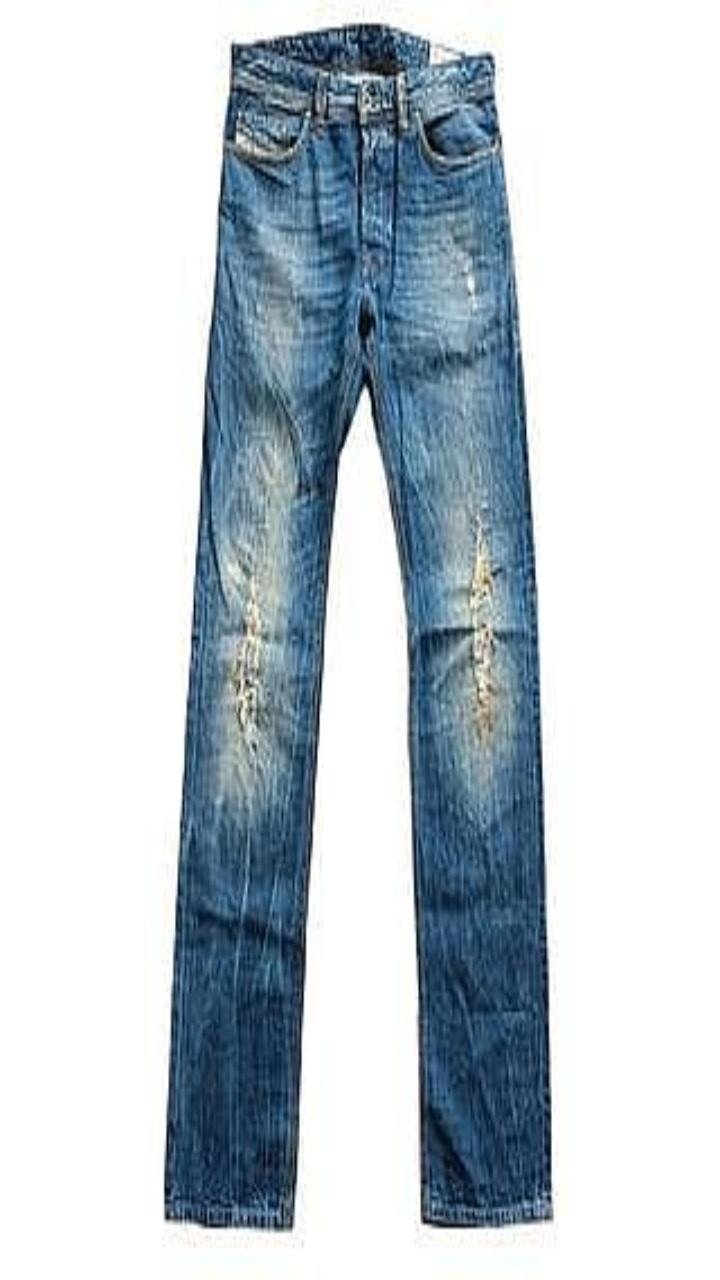Jeans: (165, 24, 551, 1227)
